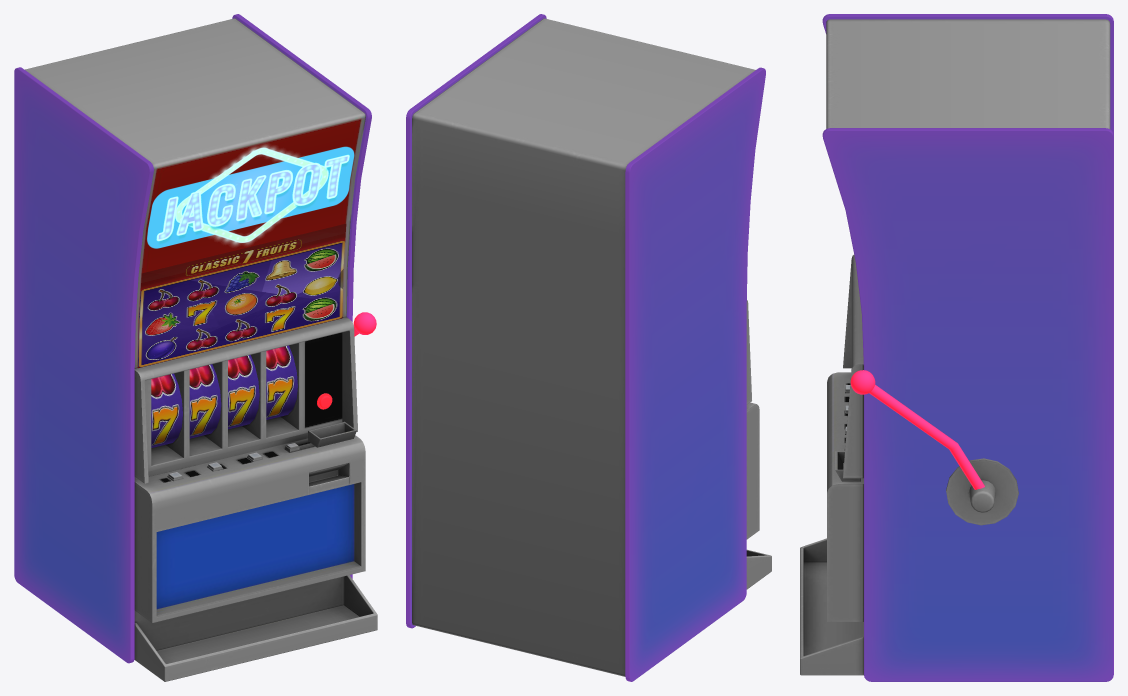
Rendered from slot_machine.glb.
The picture shows the model from 3 angles, left to right: view 1: azimuth 30°, elevation 25°; view 2: azimuth 150°, elevation 25°; view 3: azimuth 270°, elevation 25°; orthographic projection. The views are drawn at different scales.
Visible parts, largest first — view 1: polySurface98, polySurface99, polySurface85, polySurface94, polySurface92, polySurface77, polySurface90, polySurface79, polySurface95, polySurface75, polySurface97, polySurface96 (+1 smaller); view 2: polySurface99, polySurface98, polySurface79, polySurface85, polySurface77; view 3: polySurface79, polySurface99, polySurface85, polySurface88, polySurface90, polySurface77, polySurface98, polySurface73.
Part boxes in pixels (bbox=[...]): polySurface98: bbox=[14, 67, 153, 663]; polySurface99: bbox=[25, 18, 365, 650]; polySurface85: bbox=[134, 317, 365, 622]; polySurface94: bbox=[138, 223, 346, 368]; polySurface92: bbox=[147, 144, 354, 248]; polySurface77: bbox=[134, 575, 377, 681]; polySurface90: bbox=[156, 605, 359, 663]; polySurface79: bbox=[232, 14, 371, 578]; polySurface95: bbox=[189, 364, 221, 438]; polySurface75: bbox=[151, 373, 182, 447]; polySurface97: bbox=[266, 345, 297, 419]; polySurface96: bbox=[228, 355, 259, 429]; polySurface99: bbox=[412, 18, 755, 676]; polySurface98: bbox=[625, 67, 765, 681]; polySurface79: bbox=[406, 14, 546, 628]; polySurface85: bbox=[746, 300, 759, 539]; polySurface77: bbox=[746, 549, 771, 589]; polySurface79: bbox=[822, 128, 1113, 681]; polySurface99: bbox=[826, 19, 1110, 128]; polySurface85: bbox=[827, 254, 863, 621]; polySurface88: bbox=[946, 458, 1018, 525]; polySurface90: bbox=[803, 562, 863, 655]; polySurface77: bbox=[800, 538, 863, 675]; polySurface98: bbox=[822, 14, 1113, 134]; polySurface73: bbox=[850, 370, 984, 489].
Bounding box in the file's own units: 0.9095 × 1.83 × 0.9416.
Materials: 6 (4 with a texture image).
